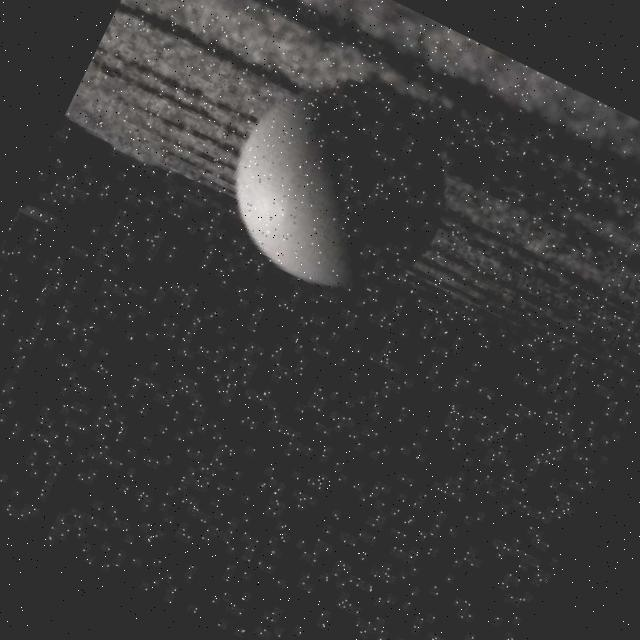ping-pong-ball: (202, 50, 478, 323)
